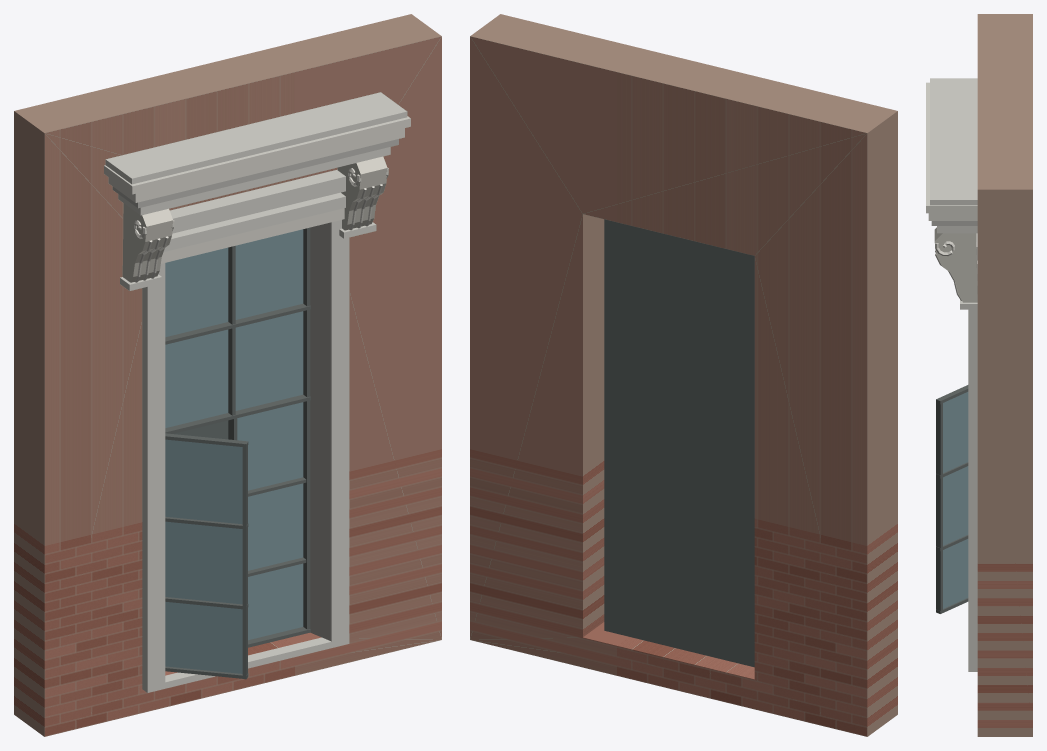
The model's file is hongkong-85-console-window-far.glb.
The picture shows the model from 3 angles, left to right: view 1: azimuth 30°, elevation 25°; view 2: azimuth 150°, elevation 25°; view 3: azimuth 270°, elevation 25°; orthographic projection. The views are drawn at different scales.
Parts seen in each view (by area): view 1: 香港路85号卷首石托窗楣与外开钢窗; view 2: 香港路85号卷首石托窗楣与外开钢窗; view 3: 香港路85号卷首石托窗楣与外开钢窗.
Part boxes in pixels (box(x1,y1,x2,y2)): 香港路85号卷首石托窗楣与外开钢窗: box(14, 14, 441, 736); 香港路85号卷首石托窗楣与外开钢窗: box(470, 14, 897, 736); 香港路85号卷首石托窗楣与外开钢窗: box(926, 14, 1032, 736).
Bounding box in the file's own units: 3.32 × 4.82 × 0.852.
Materials: 8 (1 with a texture image).
